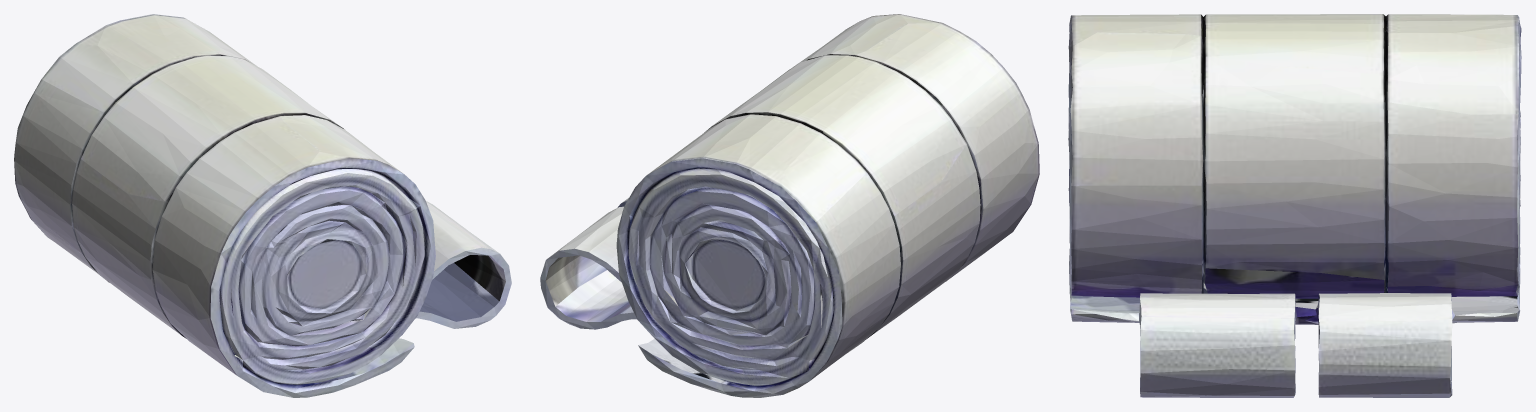
The model's file is bandage.glb.
3 views of the same model, side by side, from view 1: azimuth 30°, elevation 25°; view 2: azimuth 150°, elevation 25°; view 3: azimuth 270°, elevation 25° (orthographic). The views are drawn at different scales.
Parts seen in each view (by area): view 1: tmpeqpnwhck.ply; view 2: tmpeqpnwhck.ply; view 3: tmpeqpnwhck.ply.
Part boxes in pixels (<box>): tmpeqpnwhck.ply: <box>14,14,511,397</box>; tmpeqpnwhck.ply: <box>540,14,1039,397</box>; tmpeqpnwhck.ply: <box>1068,14,1521,397</box>.
Size of the model in its own units: 1.92 by 1.31 by 1.99.
1 material, 1 textured.
